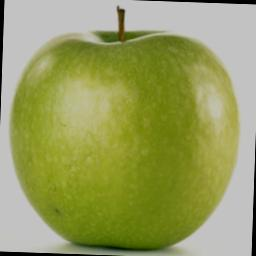Apple Unripe: (3, 14, 255, 256)
